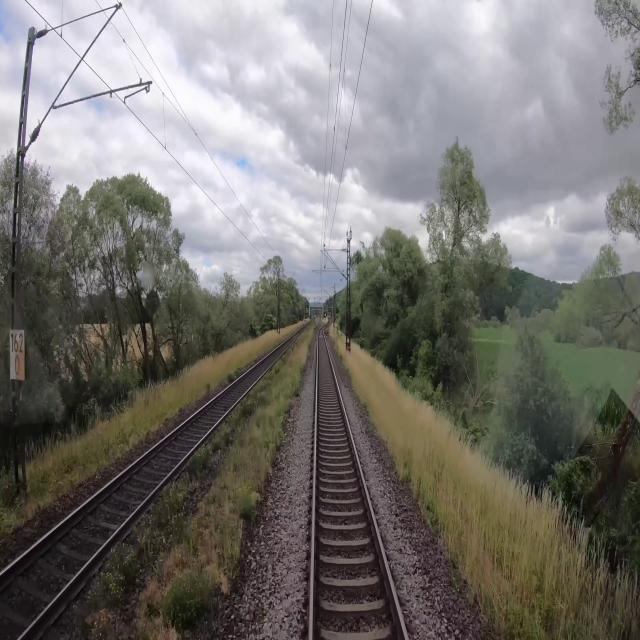Plant: (69, 323, 316, 639)
